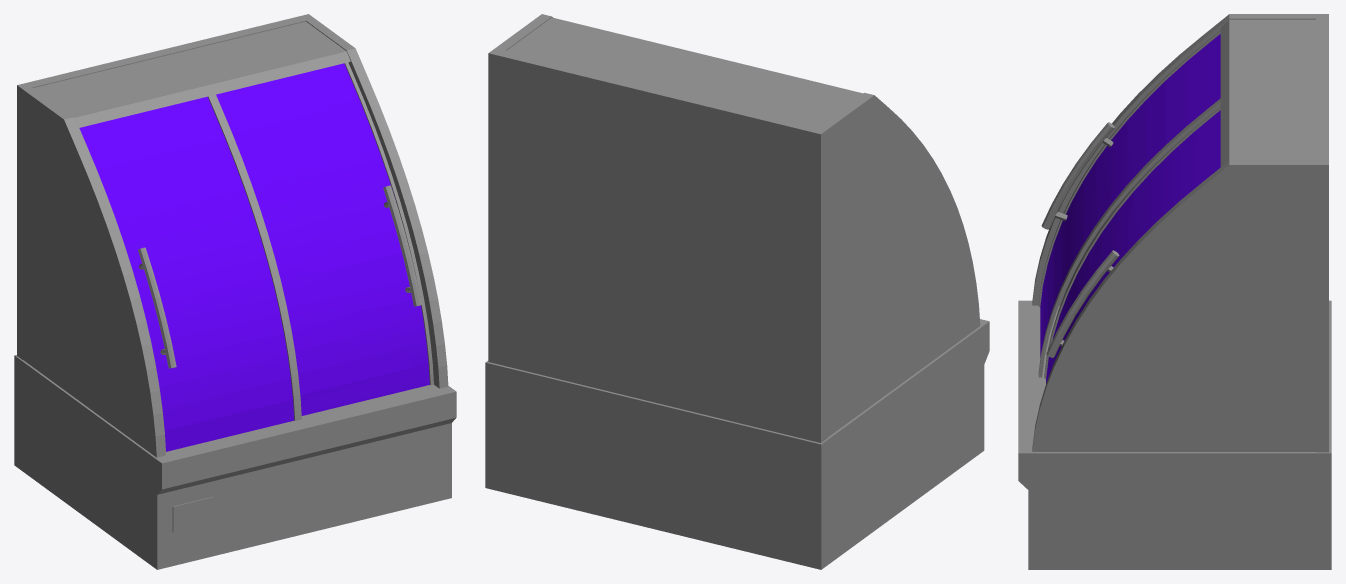
The model's file is Fridge.FBX.
3 views of the same model, side by side, from view 1: azimuth 30°, elevation 25°; view 2: azimuth 150°, elevation 25°; view 3: azimuth 270°, elevation 25° (orthographic). The views are drawn at different scales.
Parts seen in each view (by area): view 1: Bot, Door_colider_L, Door_R, Wall_L, Door-L, Door_colider-R, Top, Wall_R, Back, Handle_R, Handle_L; view 2: Back, Bot, Wall_L, Top; view 3: Wall_R, Bot, Top, Door_colider_L, Door-L, Door_R, Back, Door_colider-R, Wall_L, Handle_L, Handle_R.
Boxes of the visible parts, x1=… form: Bot: x1=14, y1=355, x2=456, y2=569; Door_colider_L: x1=79, y1=96, x2=293, y2=451; Door_R: x1=215, y1=62, x2=433, y2=415; Wall_L: x1=23, y1=87, x2=165, y2=457; Door-L: x1=77, y1=95, x2=301, y2=452; Door_colider-R: x1=217, y1=78, x2=423, y2=410; Top: x1=33, y1=21, x2=350, y2=128; Wall_R: x1=306, y1=18, x2=448, y2=388; Back: x1=17, y1=14, x2=314, y2=359; Handle_R: x1=383, y1=185, x2=421, y2=306; Handle_L: x1=138, y1=247, x2=176, y2=368; Back: x1=488, y1=48, x2=827, y2=442; Bot: x1=485, y1=319, x2=989, y2=569; Wall_L: x1=818, y1=92, x2=980, y2=436; Top: x1=507, y1=17, x2=862, y2=126; Wall_R: x1=1032, y1=160, x2=1315, y2=451; Bot: x1=1018, y1=300, x2=1331, y2=569; Top: x1=1220, y1=19, x2=1315, y2=166; Door_colider_L: x1=1040, y1=34, x2=1220, y2=357; Door-L: x1=1038, y1=30, x2=1220, y2=377; Door_R: x1=1044, y1=106, x2=1220, y2=383; Back: x1=1316, y1=14, x2=1328, y2=452; Door_colider-R: x1=1046, y1=110, x2=1220, y2=381; Wall_L: x1=1032, y1=14, x2=1315, y2=305; Handle_L: x1=1041, y1=122, x2=1114, y2=229; Handle_R: x1=1046, y1=250, x2=1119, y2=357.
Size of the model in its own units: 50 by 61.76 by 43.4.
